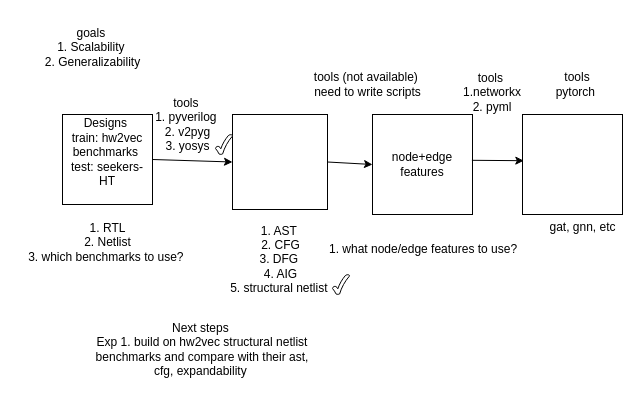
The diagram is 644 pixels wide and 395 high, and some of its shapes have lost their labels. The box of each missing label's shape, as (x1, y1, x2, y2) in pixels:
GNN: (522, 114, 622, 214)
Graph: (232, 114, 328, 210)
